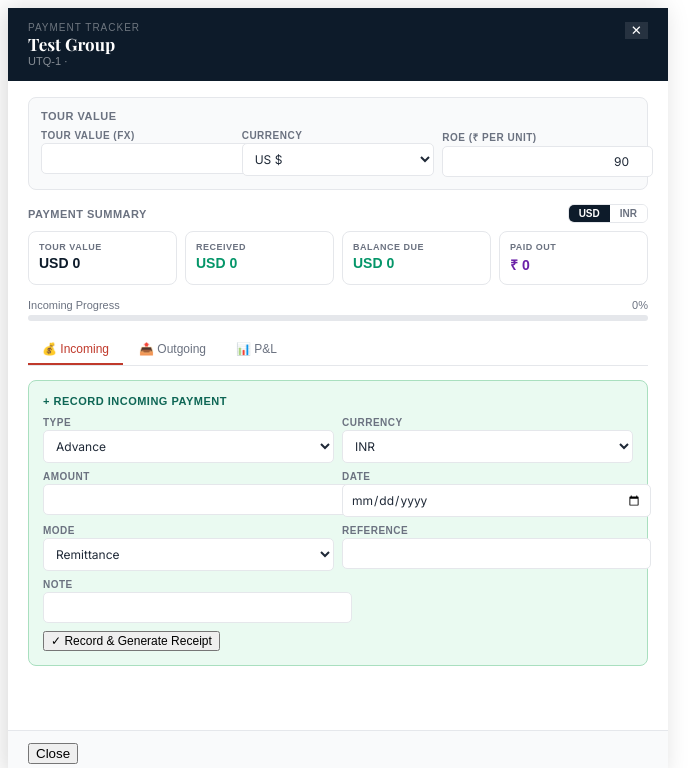
EnhancedPaymentTracker: incoming/outgoing gated independently, since someone could have one but not the other › a user with both permissions sees both record forms
Expected: the text "+ Record Incoming Payment" is shown, 43,395 -> 227,407
Click the text "📤 Outgoing" at [172, 349], box 139,342 -> 206,356
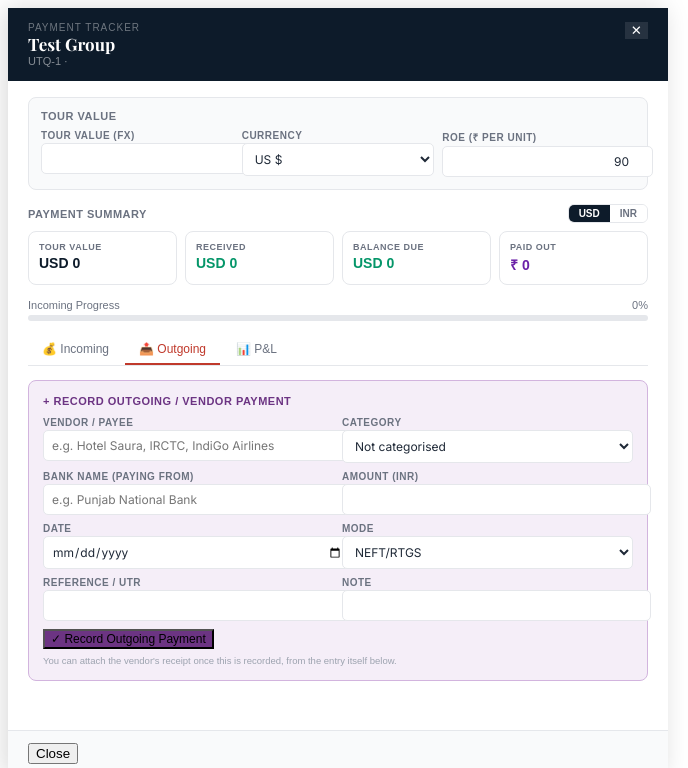
Result: the text "+ Record Outgoing / Vendor Payment" is shown at 43,395 -> 291,407
